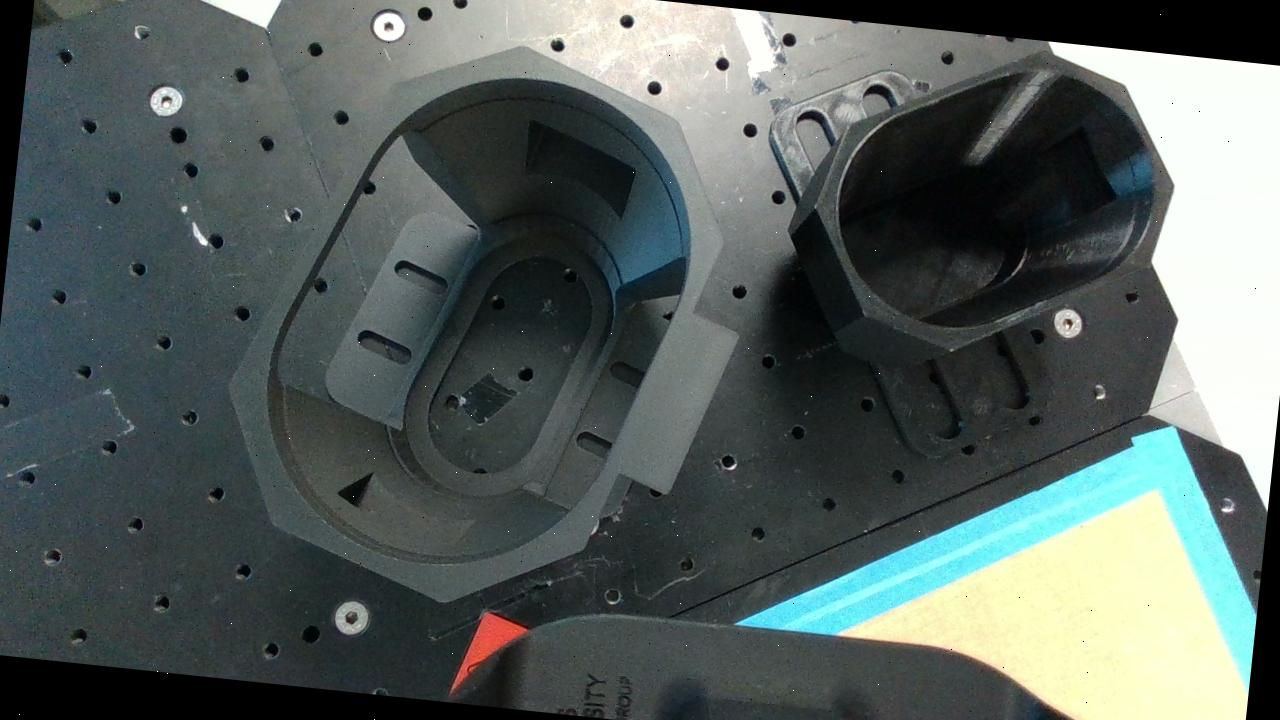big_interface: (209, 18, 744, 627)
small_interface: (801, 28, 1188, 373)
